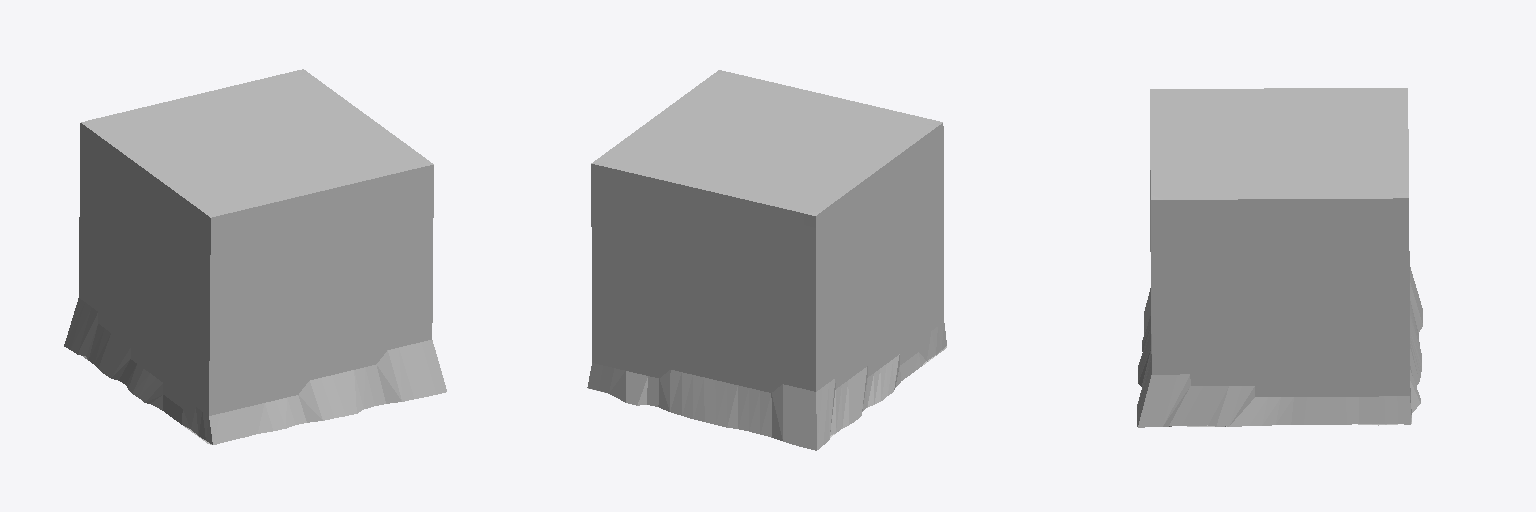
Rendered from mod0134.obj.
The picture shows the model from 3 angles: view 1: azimuth 30°, elevation 25°; view 2: azimuth 150°, elevation 25°; view 3: azimuth 270°, elevation 25°; orthographic projection.
Parts seen in each view (by area): view 1: Box001; view 2: Box001; view 3: Box001.
Boxes of the visible parts, x1=… form: Box001: x1=64, y1=69, x2=446, y2=444; Box001: x1=587, y1=70, x2=946, y2=450; Box001: x1=1137, y1=88, x2=1422, y2=427.
Size of the model in its own units: 0.5799 by 0.5241 by 0.5979.